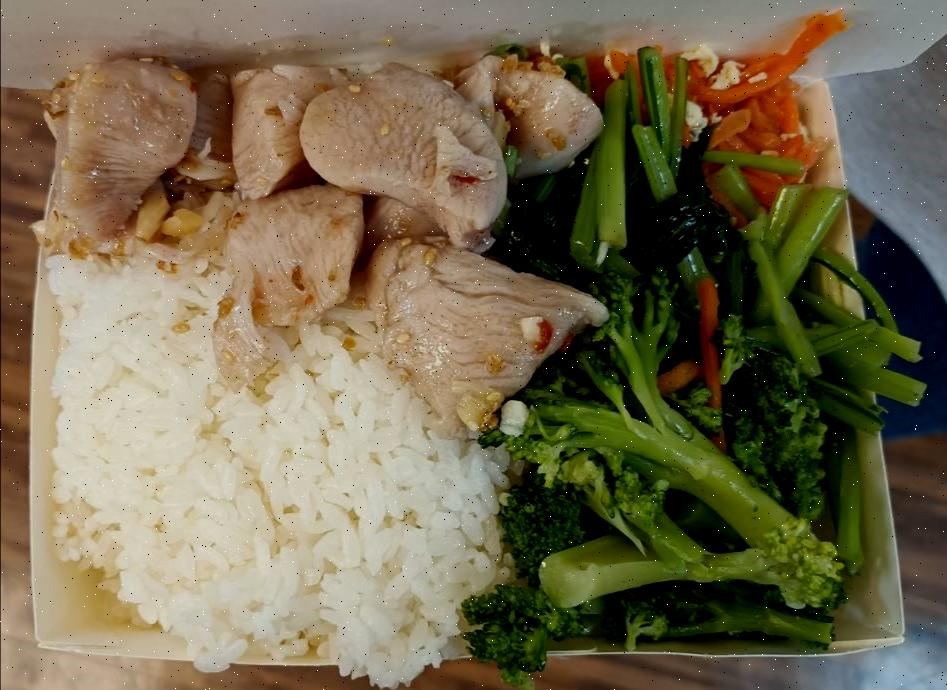big grilled chicken leg: (11, 67, 920, 677)
big herbal chicken leg: (39, 237, 508, 682)
braised fish fillet: (486, 46, 923, 424), (465, 277, 834, 656), (603, 37, 820, 213)
braised pork: (48, 49, 600, 430)
